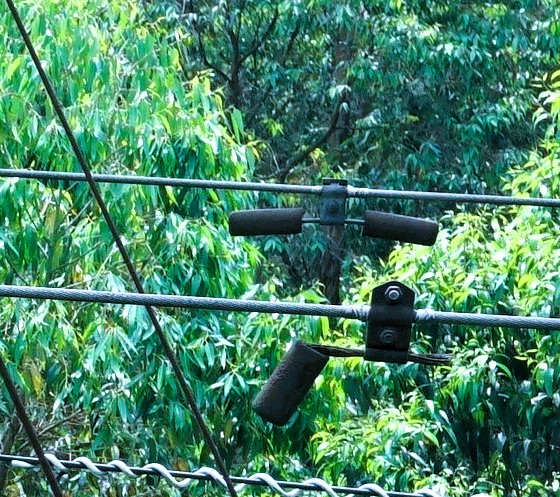Damage of shockproof hammer: (246, 272, 456, 433)
